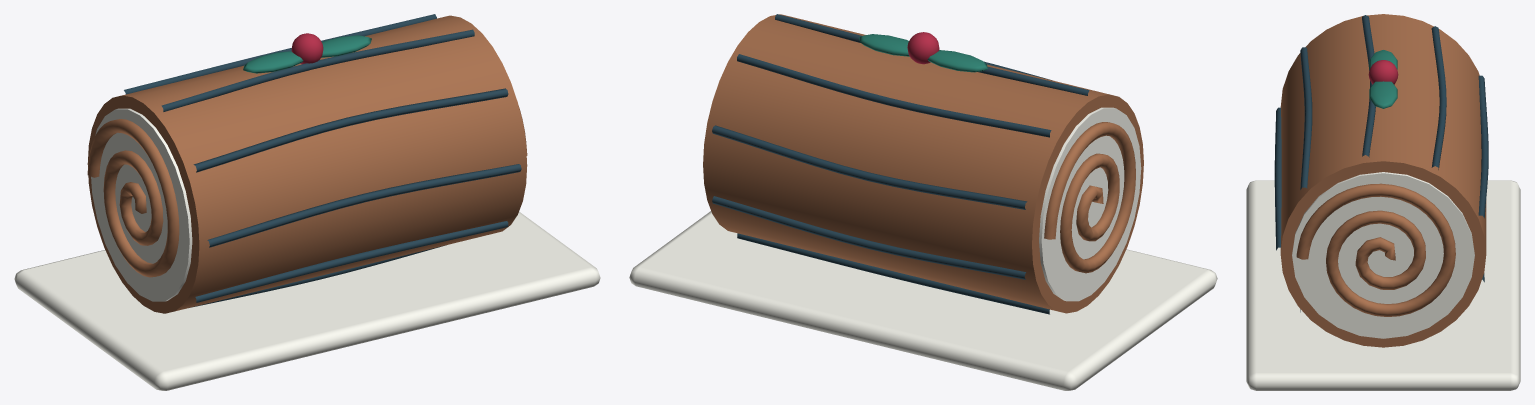
The model's file is storybook-christmas-market-chocolate-yule-log-bf24fbbc__19725.glb.
3 renders of one model, left to right at view 1: azimuth 30°, elevation 25°; view 2: azimuth 150°, elevation 25°; view 3: azimuth 270°, elevation 25°, orthographic. The views are drawn at different scales.
Visible parts, largest first — view 1: chocolate-yule-log; view 2: chocolate-yule-log; view 3: chocolate-yule-log.
Part boxes in pixels (<box>): chocolate-yule-log: <box>14,14,600,390</box>; chocolate-yule-log: <box>629,14,1217,390</box>; chocolate-yule-log: <box>1246,14,1520,390</box>.
Size of the model in its own units: 0.83 by 0.451 by 0.48.
